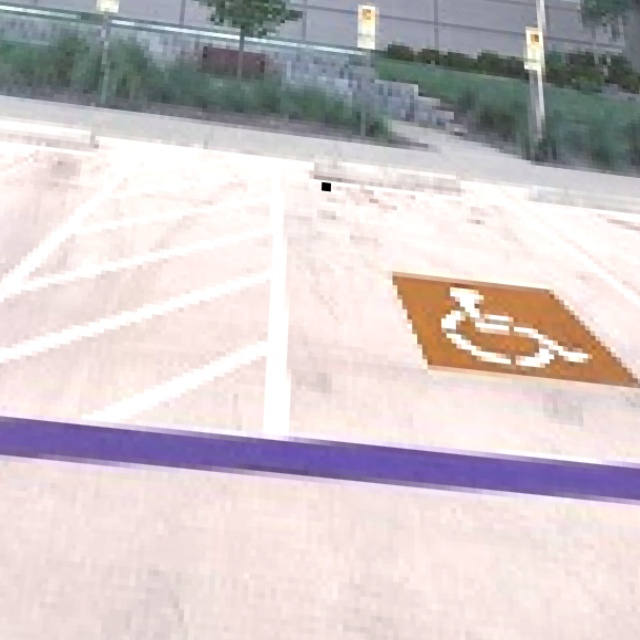ISA: (439, 274, 594, 377)
